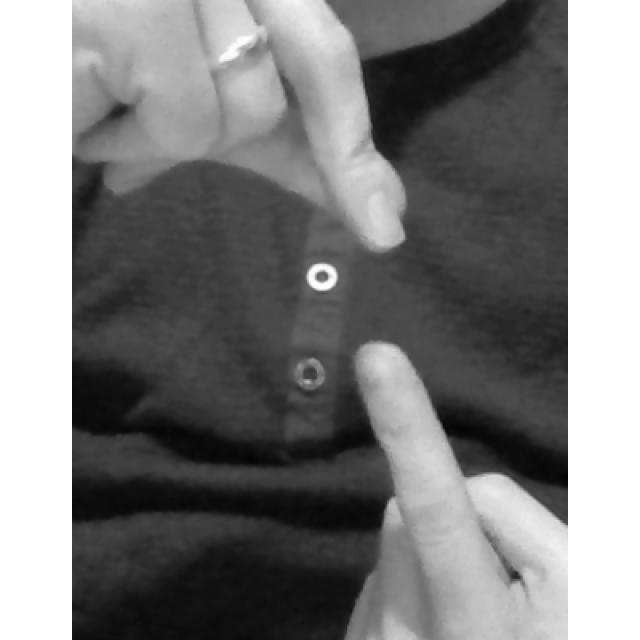I-: (73, 0, 568, 638)
